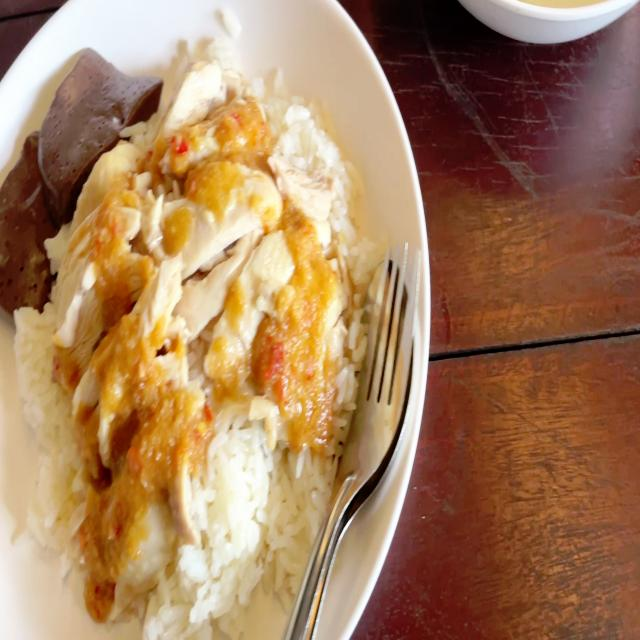boiled_chicken: (71, 92, 297, 484)
boiled_chicken_blood_jelly: (0, 137, 62, 314), (43, 71, 121, 199)
chicken_rice: (5, 27, 374, 613)
